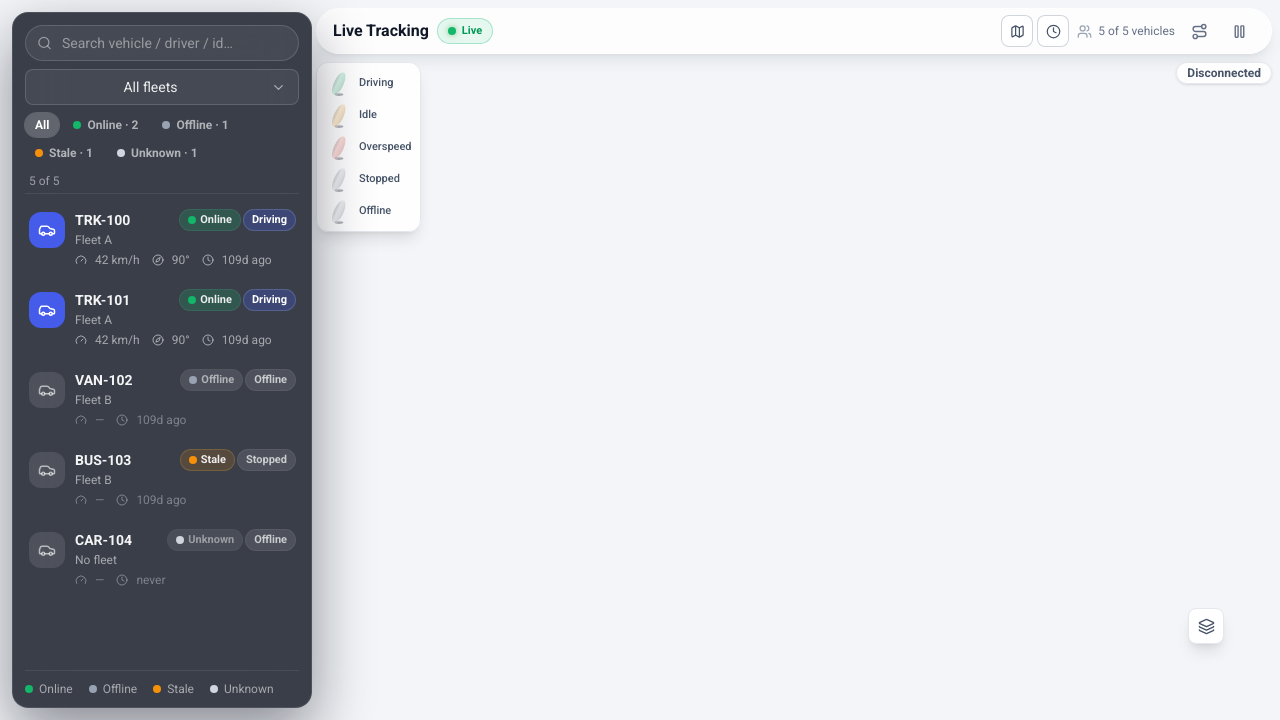
Test: MapPage (Live Tracking) › switches map markers between vehicle bodies and direction arrows
Expected: the text "TRK-100" is shown, [75,210,130,230]
Step 1. Click the button with test id "map-settings-button" → (1206, 626), box [1188,608,1224,644]
(page scrolled)
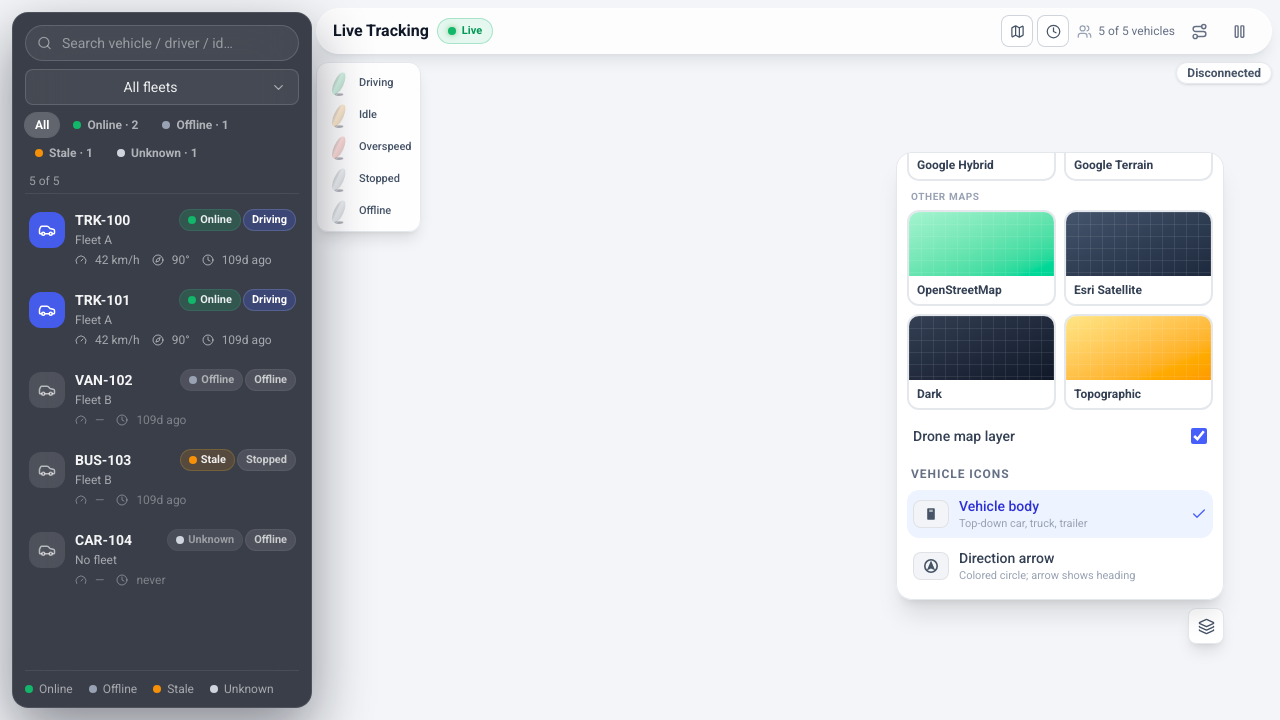
Step 2. Click the radio button with test id "marker-style-navigation" → (931, 566), box [907,542,1213,589]
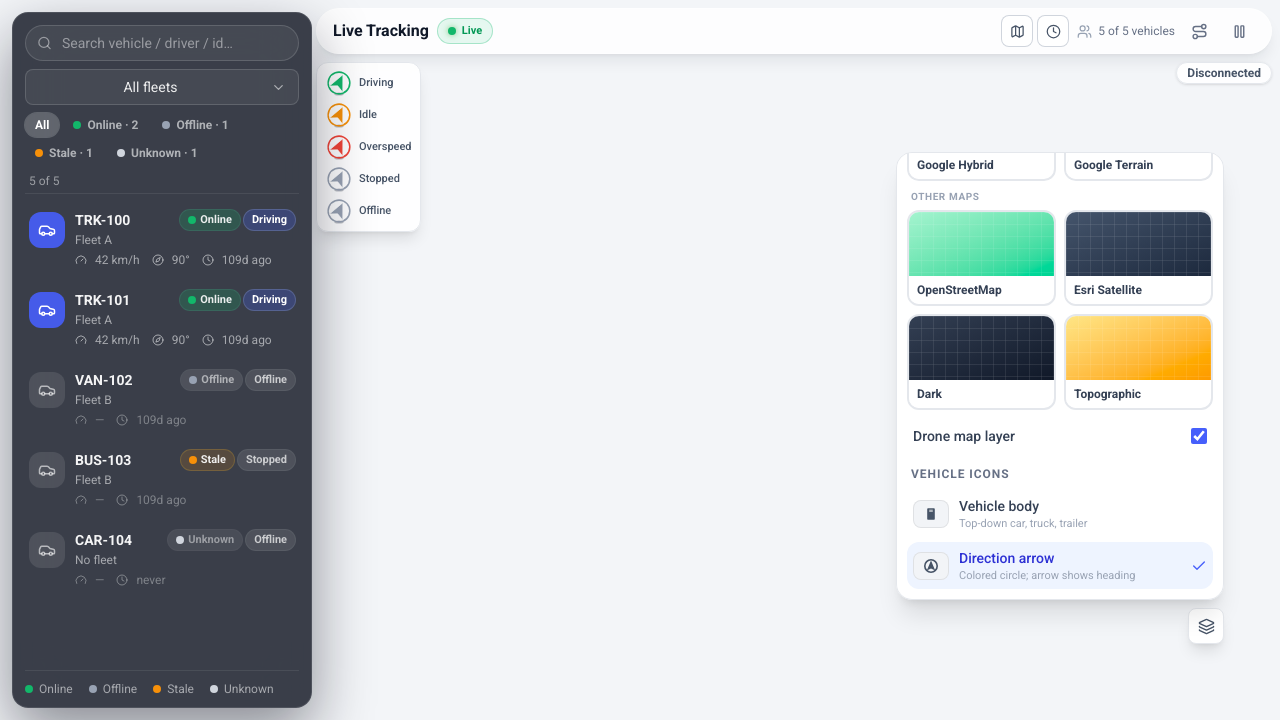
Result: the radio button with test id "marker-style-navigation" is checked at [907,542,1213,589]
Result: the radio button with test id "marker-style-vehicle" is not checked at [907,490,1213,538]
